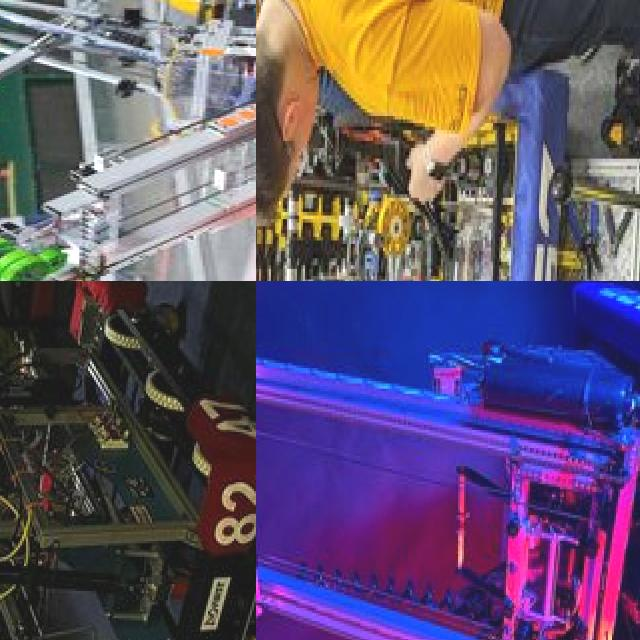FRC-Robots: (256, 281, 640, 640), (0, 281, 256, 640), (256, 23, 573, 281), (0, 0, 256, 281)
